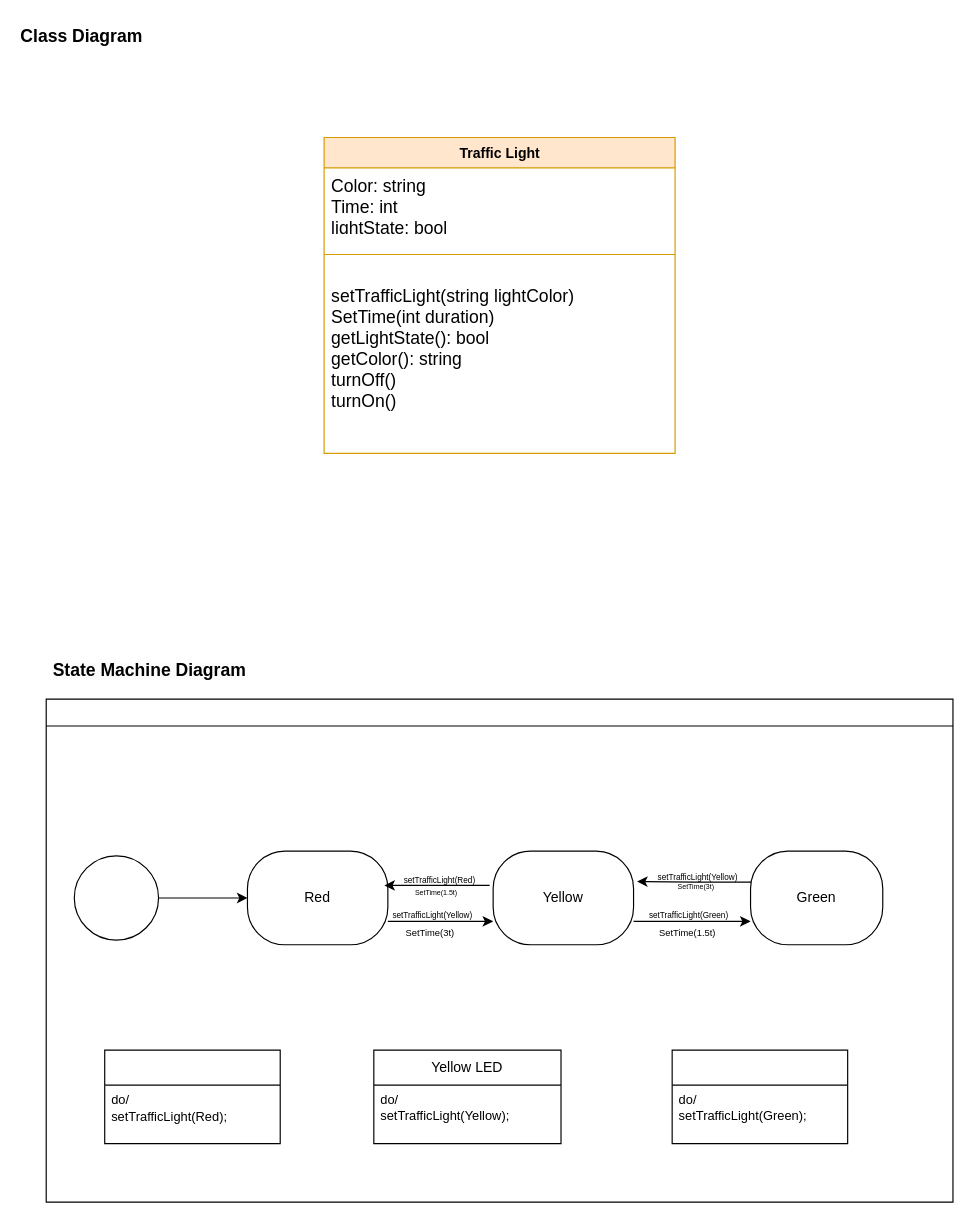
Image size: 973x1223. Some labels were removed from this diagram. Here are the shapes that lost their labels. From the top down, the box of each, then its label:
(104, 1049, 280, 1144): Red LED
(671, 1049, 848, 1144): Green LED
